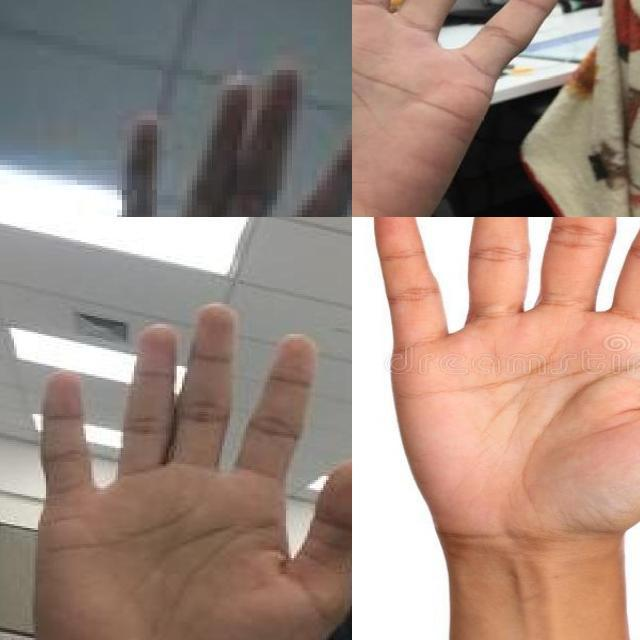no-gloves: (32, 304, 352, 640), (371, 217, 640, 548), (352, 0, 623, 217), (72, 60, 352, 217)
